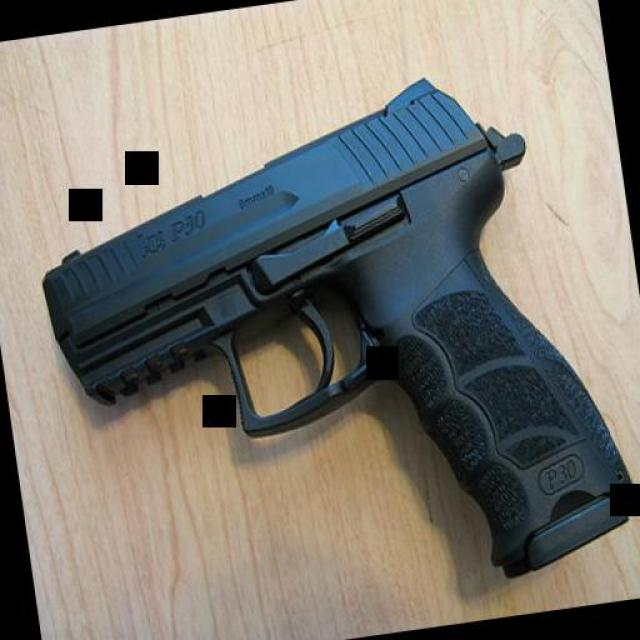gun: (14, 55, 640, 631)
